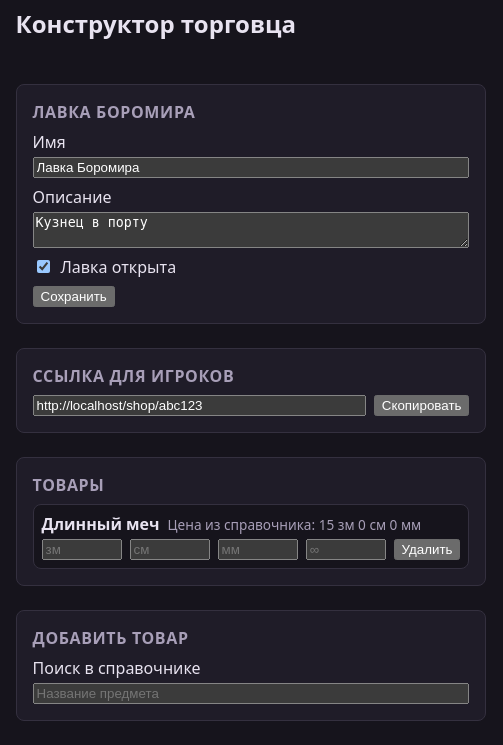
MerchantEditorPage › copies the shop link to the clipboard
Click the button "Скопировать".
click(422, 405)  # box 374,395 -> 469,416
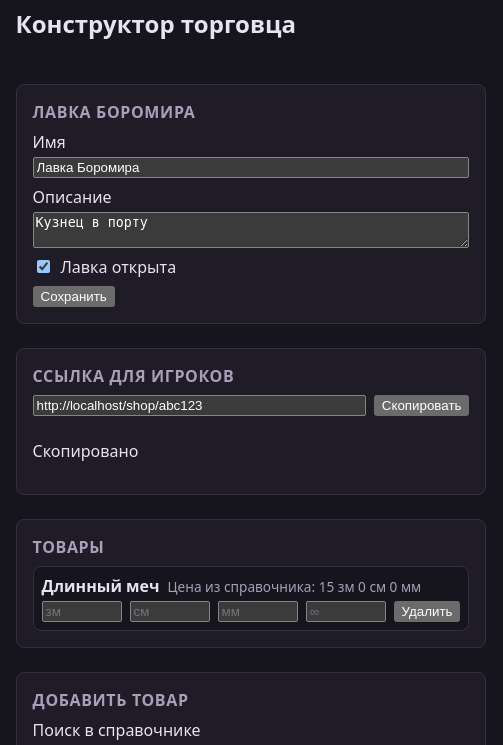
Result: the text "Скопировано" is shown at 32,440 -> 138,462
